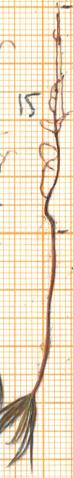flower: (0, 383, 55, 478)
root: (30, 1, 69, 233)
stem: (29, 233, 62, 392)
